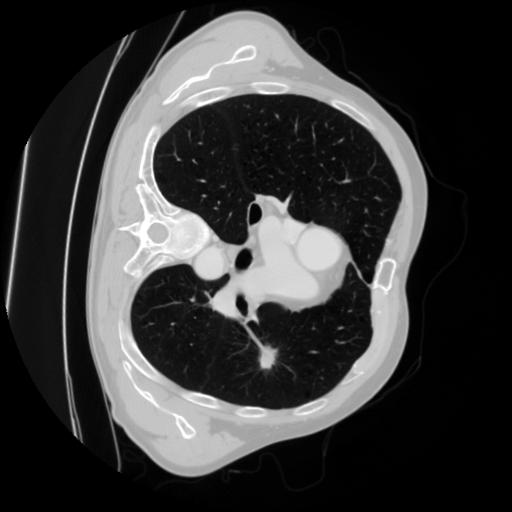nodule: (251, 343, 283, 375)
